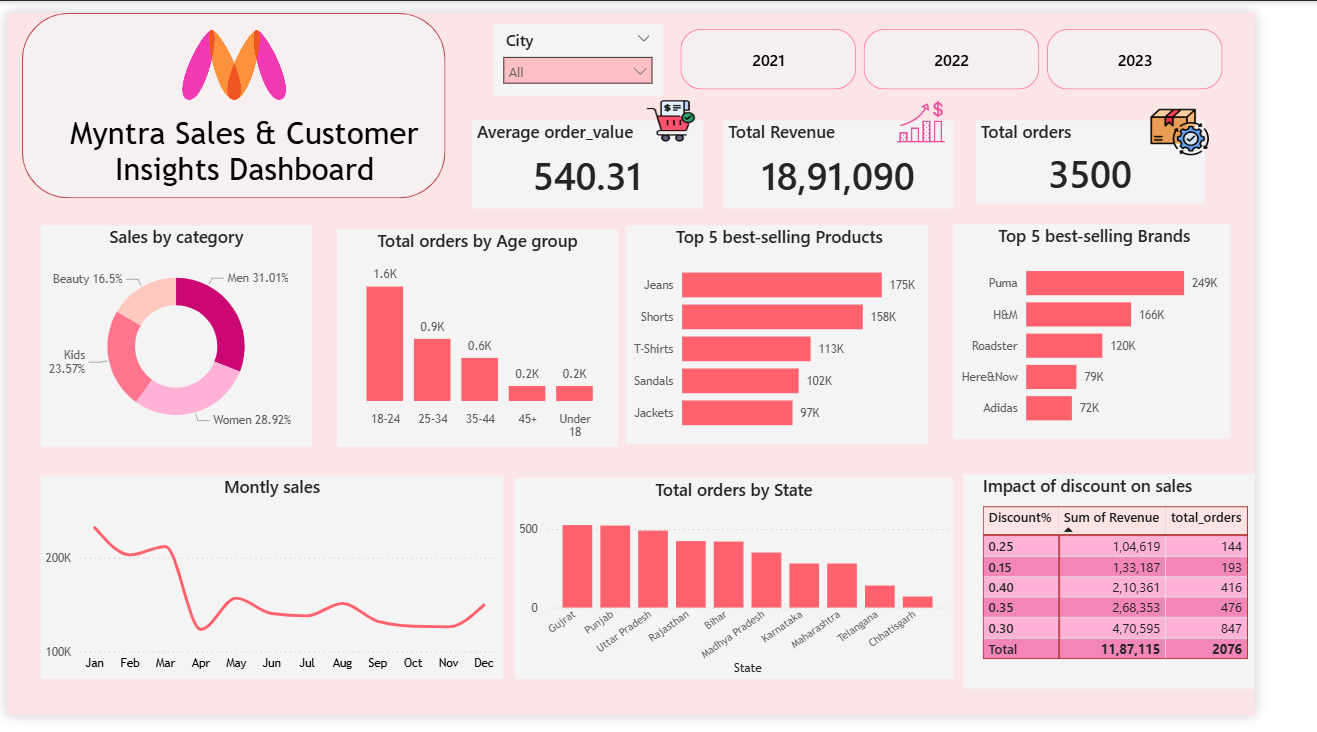

Layout of this report page (visuals, bound fields, positions):
{"tool":"powerbi","page":{"name":"Page 1","canvas":[1280,720],"ordinal":0},"visuals":[{"type":"shape","box":[15.7,0,434.3,190],"z":0},{"type":"card","title":"Total orders","fields":{"Values":["Sheet1.total_orders"]},"box":[993.3,110,235,85],"z":1000},{"type":"card","title":"Total  Revenue","fields":{"Values":["Sheet1.Total revenue"]},"box":[734,110,236,90],"z":2000},{"type":"card","title":"Average order_value","fields":{"Values":["Sheet1.Average_order_sales"]},"box":[476.7,110,236.7,90],"z":3000},{"type":"donutChart","title":"Sales by category","fields":{"Category":["Sheet1.Category"],"Y":["Sum(Sheet1.Revenue)"]},"box":[34,218,278,226],"z":4000},{"type":"lineChart","title":"Montly sales","fields":{"Category":["Sheet1.Month"],"Y":["Sum(Sheet1.Revenue)"]},"box":[34.3,474.3,474.3,208.6],"z":5000},{"type":"advancedSlicerVisual","title":"Yearly sales","fields":{"Values":["Sheet1.Year"]},"box":[685.7,11.4,568.6,72.9],"z":6000},{"type":"clusteredBarChart","title":"Top 5 best-selling Brands","fields":{"Category":["Sheet1.Brand Name"],"Y":["Sum(Sheet1.Revenue)"]},"box":[970,217.1,284.3,220],"z":7000},{"type":"clusteredBarChart","title":"Top 5 best-selling Products","fields":{"Category":["Sheet1.Product Name"],"Y":["Sum(Sheet1.Revenue)"]},"box":[634,218,310,224],"z":8000},{"type":"slicer","fields":{"Values":["Sheet1.City"]},"box":[498.3,11.7,173.3,73.3],"z":9000},{"type":"columnChart","title":"Total orders by State","fields":{"Category":["Sheet1.State"],"Y":["Sheet1.total_orders"]},"box":[520,476.7,450,206.7],"z":10000},{"type":"pivotTable","title":"Impact of discount on sales","fields":{"Values":["Sum(Sheet1.Revenue)","df.total_orders"],"Rows":["Sheet1.Discount%"]},"box":[980.4,473.6,299.4,219.6],"z":11000},{"type":"columnChart","title":"Total orders by Age group","fields":{"Category":["df.Age Group"],"Y":["df.total_orders"]},"box":[338.3,221.7,288.3,223.3],"z":12000},{"type":"image","box":[170,11.7,126.7,85],"z":13000},{"type":"image","box":[905,80,65,65],"z":14000},{"type":"textbox","box":[10,98.3,466.7,101.7],"z":15000},{"type":"image","box":[1168.1,89.6,69.9,65],"z":16000},{"type":"image","box":[650,85,61.7,52.5],"z":17000}]}

Visuals, with their boxes in screenshot pixels (x1, y1, x2, y2), scaled from the page's 1280x720 canvas onto the 1317x732 screenshot:
shape: [16,0,463,193]
"Total orders" card: [1022,112,1264,198]
"Total  Revenue" card: [755,112,998,203]
"Average order_value" card: [490,112,734,203]
"Sales by category" donutChart: [35,222,321,451]
"Montly sales" lineChart: [35,482,523,694]
"Yearly sales" advancedSlicerVisual: [706,12,1291,86]
"Top 5 best-selling Brands" clusteredBarChart: [998,221,1291,444]
"Top 5 best-selling Products" clusteredBarChart: [652,222,971,449]
slicer - Sheet1.City: [513,12,691,86]
"Total orders by State" columnChart: [535,485,998,695]
"Impact of discount on sales" pivotTable: [1009,481,1316,705]
"Total orders by Age group" columnChart: [348,225,645,452]
image: [175,12,305,98]
image: [931,81,998,147]
textbox: [10,100,490,203]
image: [1202,91,1274,157]
image: [669,86,732,140]
